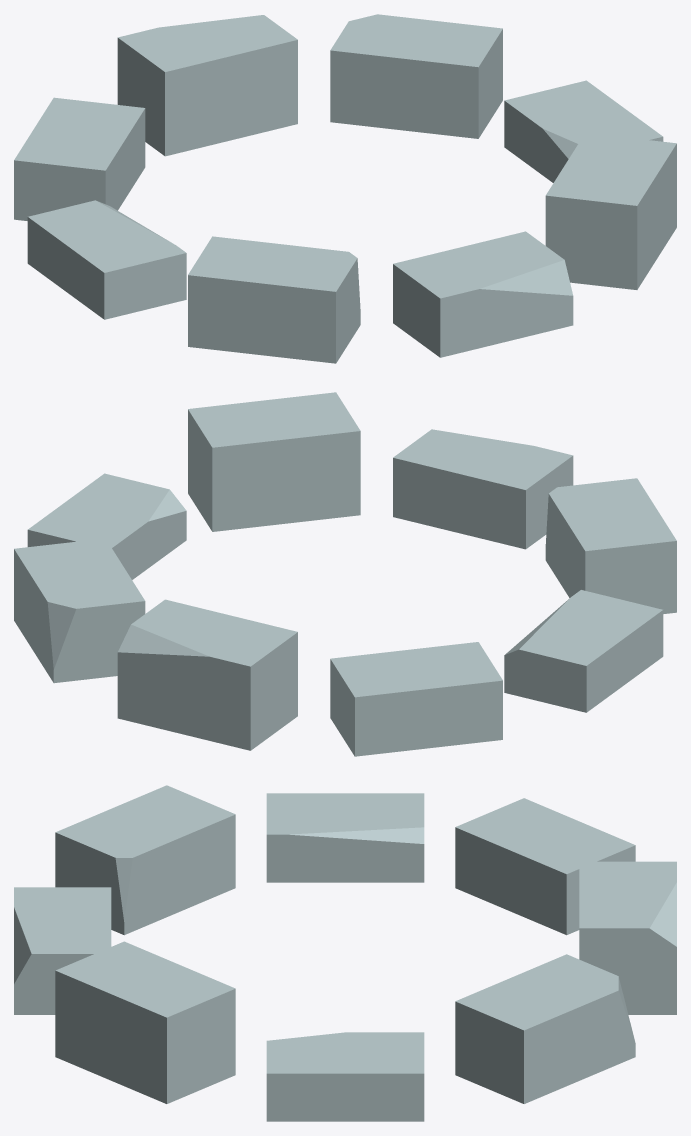
File: campfire_bricks.glb
3 renders of one model, top to bottom at view 1: azimuth 30°, elevation 25°; view 2: azimuth 150°, elevation 25°; view 3: azimuth 270°, elevation 25°, orthographic. The views are drawn at different scales.
Parts seen in each view (by area): view 1: campfire_bricks; view 2: campfire_bricks; view 3: campfire_bricks.
Boxes of the visible parts, left/top/right/bottom form: campfire_bricks: left=14, top=14, right=676, bottom=363; campfire_bricks: left=14, top=392, right=676, bottom=756; campfire_bricks: left=14, top=785, right=676, bottom=1121.
Size of the model in its own units: 0.4692 by 0.0676 by 0.4692.
